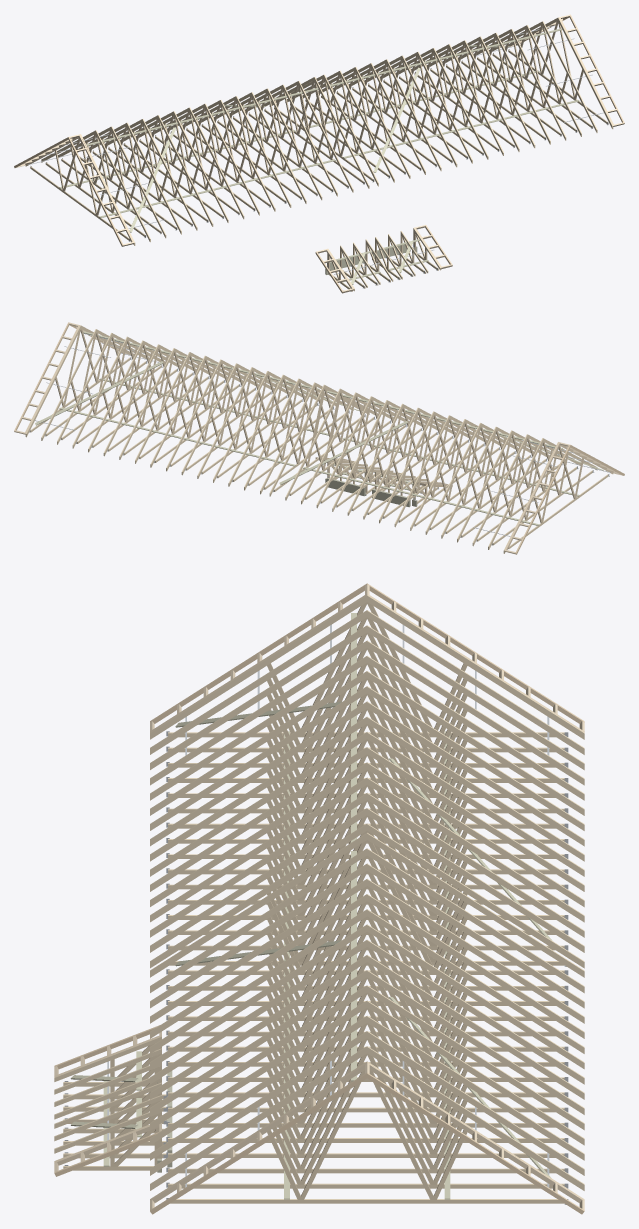
Rendered from stage-6.glb.
The picture shows the model from 3 angles, top to bottom: view 1: azimuth 30°, elevation 25°; view 2: azimuth 150°, elevation 25°; view 3: azimuth 270°, elevation 25°; orthographic projection. The views are drawn at different scales.
Parts seen in each view (by area): view 1: Geom3D_TC01 truss chord 35 x 72 TR26 L1944, Geom3D_TW03 truss web 35 x 72 TR26 L497, Geom3D_BN21 binder 22 x 97 C16 L1507, Geom3D_BG24 barge 47 x 72 C24 L1944, Geom3D_OR26 outrigger 47 x 72 C24 L355, Geom3D_HES (30 x 5 heavy restraint strap) strap, Geom3D_LR25 ladder rail 47 x 72 C24 L1944, Geom3D_LG31 ledger 75 x 220 C24 L167; view 2: Geom3D_TC01 truss chord 35 x 72 TR26 L1944, Geom3D_TW03 truss web 35 x 72 TR26 L497, Geom3D_BN21 binder 22 x 97 C16 L1507, Geom3D_BG24 barge 47 x 72 C24 L1944, Geom3D_HES (30 x 5 heavy restraint strap) strap, Geom3D_OR26 outrigger 47 x 72 C24 L355, Geom3D_LR25 ladder rail 47 x 72 C24 L1944, Geom3D_LG31 ledger 75 x 220 C24 L167; view 3: Geom3D_TC01 truss chord 35 x 72 TR26 L1944, Geom3D_TW03 truss web 35 x 72 TR26 L497, Geom3D_BG24 barge 47 x 72 C24 L1944, Geom3D_BN21 binder 22 x 97 C16 L1507, Geom3D_LR25 ladder rail 47 x 72 C24 L1944, Geom3D_HES (30 x 5 heavy restraint strap) strap, Geom3D_OR26 outrigger 47 x 72 C24 L355.
Boxes of the visible parts, x1=… form: Geom3D_TC01 truss chord 35 x 72 TR26 L1944: x1=25, y1=17, x2=613, y2=291; Geom3D_TW03 truss web 35 x 72 TR26 L497: x1=55, y1=21, x2=583, y2=280; Geom3D_BN21 binder 22 x 97 C16 L1507: x1=59, y1=28, x2=579, y2=284; Geom3D_BG24 barge 47 x 72 C24 L1944: x1=14, y1=14, x2=624, y2=293; Geom3D_OR26 outrigger 47 x 72 C24 L355: x1=16, y1=15, x2=623, y2=292; Geom3D_HES (30 x 5 heavy restraint strap) strap: x1=28, y1=25, x2=608, y2=291; Geom3D_LR25 ladder rail 47 x 72 C24 L1944: x1=25, y1=17, x2=614, y2=290; Geom3D_LG31 ledger 75 x 220 C24 L167: x1=325, y1=244, x2=417, y2=274; Geom3D_TC01 truss chord 35 x 72 TR26 L1944: x1=25, y1=325, x2=613, y2=553; Geom3D_TW03 truss web 35 x 72 TR26 L497: x1=55, y1=329, x2=583, y2=523; Geom3D_BN21 binder 22 x 97 C16 L1507: x1=35, y1=331, x2=603, y2=525; Geom3D_BG24 barge 47 x 72 C24 L1944: x1=14, y1=322, x2=624, y2=554; Geom3D_HES (30 x 5 heavy restraint strap) strap: x1=29, y1=333, x2=610, y2=545; Geom3D_OR26 outrigger 47 x 72 C24 L355: x1=15, y1=322, x2=622, y2=554; Geom3D_LR25 ladder rail 47 x 72 C24 L1944: x1=24, y1=325, x2=613, y2=551; Geom3D_LG31 ledger 75 x 220 C24 L167: x1=325, y1=478, x2=417, y2=507; Geom3D_TC01 truss chord 35 x 72 TR26 L1944: x1=54, y1=595, x2=584, y2=1203; Geom3D_TW03 truss web 35 x 72 TR26 L497: x1=110, y1=602, x2=467, y2=1199; Geom3D_BG24 barge 47 x 72 C24 L1944: x1=54, y1=583, x2=584, y2=1214; Geom3D_BN21 binder 22 x 97 C16 L1507: x1=70, y1=613, x2=552, y2=1199; Geom3D_LR25 ladder rail 47 x 72 C24 L1944: x1=54, y1=593, x2=584, y2=1202; Geom3D_HES (30 x 5 heavy restraint strap) strap: x1=64, y1=624, x2=568, y2=1204; Geom3D_OR26 outrigger 47 x 72 C24 L355: x1=54, y1=584, x2=584, y2=1209.
Bounding box in the file's own units: 19.32 × 5.51 × 8.83.
